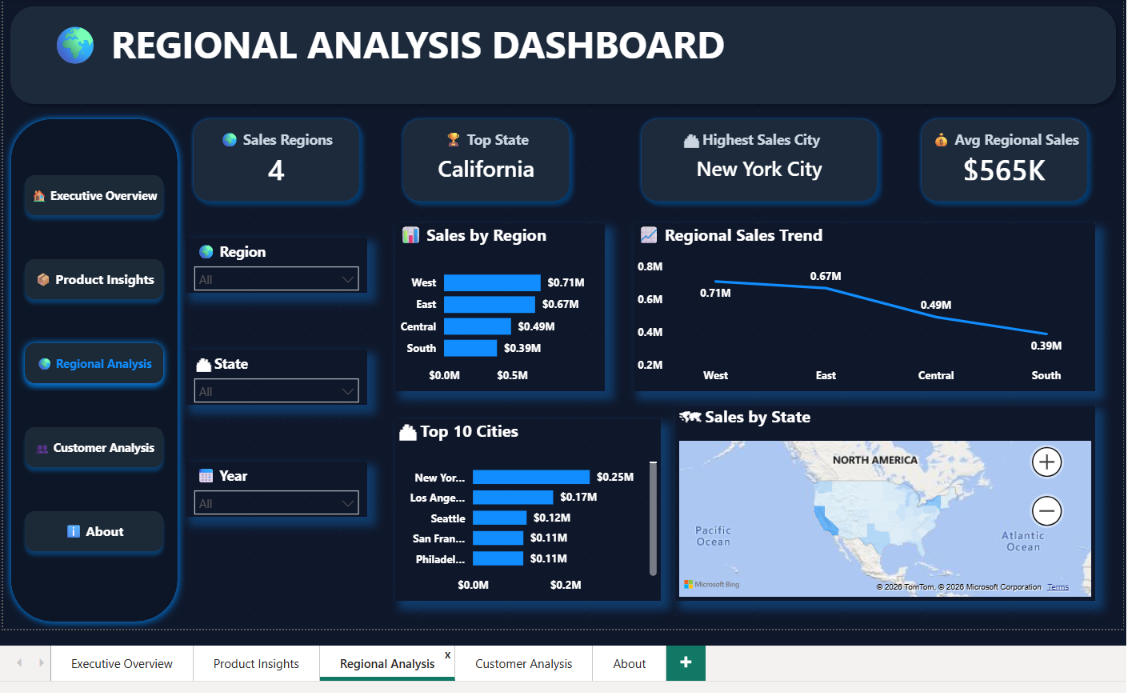

The page's visual inventory and layout, read from the dashboard file:
{"tool":"powerbi","page":{"name":"Regional Analysis","canvas":[1280,720],"ordinal":2},"visuals":[{"type":"shape","box":[0,128,208,592],"z":0},{"type":"actionButton","box":[16,192,170,42],"z":1000},{"type":"actionButton","box":[16,288,170,42],"z":2000},{"type":"actionButton","box":[16,384,170,42],"z":3000},{"type":"actionButton","box":[16,480,170,42],"z":4000},{"type":"actionButton","box":[16,576,170,42],"z":5000},{"type":"shape","box":[0,0,1280,128],"z":6000},{"type":"textbox","box":[48,16,816,96],"z":7000},{"type":"shape","box":[208,128,208,112],"z":8000},{"type":"cardVisual","fields":{"Data":["Sales_Data.Sales Regions"]},"box":[224,160,176,64],"z":9000},{"type":"textbox","box":[224,144,176,32],"z":10000},{"type":"shape","box":[448,128,208,112],"z":11000},{"type":"cardVisual","fields":{"Data":["Sales_Data.Top State"]},"box":[464,160,176,64],"z":12000},{"type":"textbox","box":[464,144,176,32],"z":13000},{"type":"shape","box":[720,128,288,112],"z":14000},{"type":"cardVisual","fields":{"Data":["Sales_Data.Highest Sales City"]},"box":[752,160,224,64],"z":15000},{"type":"textbox","box":[768,144,176,32],"z":16000},{"type":"shape","box":[1040,128,208,112],"z":17000},{"type":"cardVisual","fields":{"Data":["Sales_Data.Average Regional Sales"]},"box":[1056,160,176,64],"z":18000},{"type":"textbox","box":[1056,144,192,32],"z":19000},{"type":"slicer","fields":{"Values":["Sales_Data.Region"]},"box":[208,272,208,64],"z":20000},{"type":"slicer","fields":{"Values":["Sales_Data.State"]},"box":[208,400,208,64],"z":21000},{"type":"slicer","fields":{"Values":["Sales_Data.Year"]},"box":[208,528,208,64],"z":22000},{"type":"clusteredBarChart","title":"📊 Sales by Region","fields":{"Category":["Sales_Data.Region"],"Y":["Sales_Data.Total Sales"]},"box":[448,256,240,192],"z":23000},{"type":"clusteredBarChart","title":"🏙 Top 10 Cities","fields":{"Category":["Sales_Data.City"],"Y":["Sales_Data.Total Sales"]},"box":[448,480,304,208],"z":24000},{"type":"lineChart","title":"📈 Regional Sales Trend","fields":{"Category":["Sales_Data.Region"],"Y":["Sum(Sales_Data.Sales)"]},"box":[720,256,528,192],"z":25000},{"type":"filledMap","title":"🗺 Sales by State","fields":{"Category":["Sales_Data.State"]},"box":[768,464,480,224],"z":26000}]}

Visuals, with their boxes on the page's 1280x720 design canvas (x1, y1, x2, y2). These are canvas units, not pixel positions in the 1127x693 screenshot, which may show the page scaled, cropped or inside an application window:
shape: BBox(0, 128, 208, 720)
actionButton: BBox(16, 192, 186, 234)
actionButton: BBox(16, 288, 186, 330)
actionButton: BBox(16, 384, 186, 426)
actionButton: BBox(16, 480, 186, 522)
actionButton: BBox(16, 576, 186, 618)
shape: BBox(0, 0, 1280, 128)
textbox: BBox(48, 16, 864, 112)
shape: BBox(208, 128, 416, 240)
cardVisual - Sales_Data.Sales Regions: BBox(224, 160, 400, 224)
textbox: BBox(224, 144, 400, 176)
shape: BBox(448, 128, 656, 240)
cardVisual - Sales_Data.Top State: BBox(464, 160, 640, 224)
textbox: BBox(464, 144, 640, 176)
shape: BBox(720, 128, 1008, 240)
cardVisual - Sales_Data.Highest Sales City: BBox(752, 160, 976, 224)
textbox: BBox(768, 144, 944, 176)
shape: BBox(1040, 128, 1248, 240)
cardVisual - Sales_Data.Average Regional Sales: BBox(1056, 160, 1232, 224)
textbox: BBox(1056, 144, 1248, 176)
slicer - Sales_Data.Region: BBox(208, 272, 416, 336)
slicer - Sales_Data.State: BBox(208, 400, 416, 464)
slicer - Sales_Data.Year: BBox(208, 528, 416, 592)
"📊 Sales by Region" clusteredBarChart: BBox(448, 256, 688, 448)
"🏙 Top 10 Cities" clusteredBarChart: BBox(448, 480, 752, 688)
"📈 Regional Sales Trend" lineChart: BBox(720, 256, 1248, 448)
"🗺 Sales by State" filledMap: BBox(768, 464, 1248, 688)
